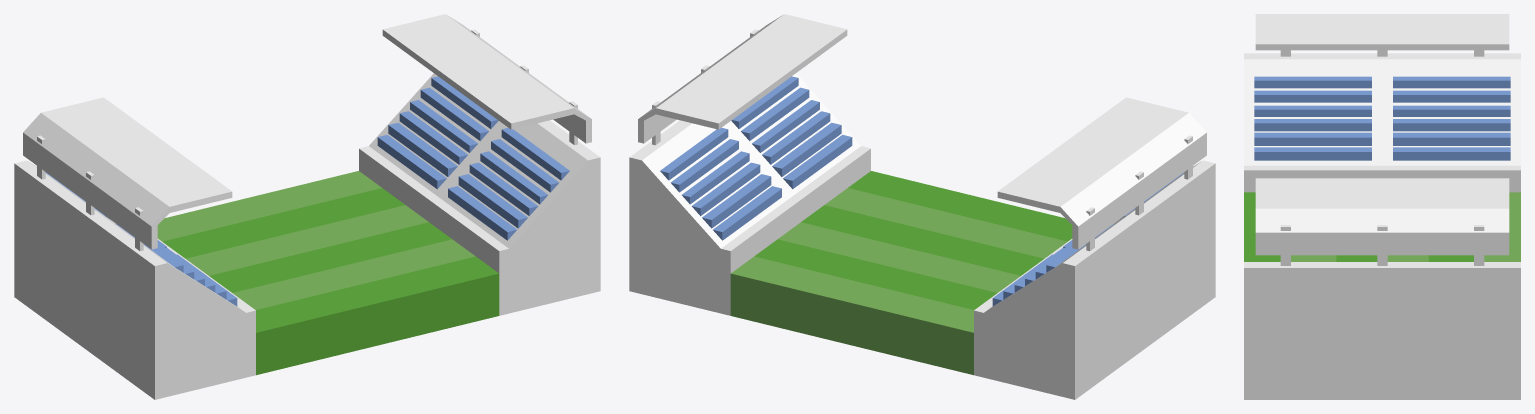
The model's file is back_stadium 1.fbx.
3 renders of one model, left to right at view 1: azimuth 30°, elevation 25°; view 2: azimuth 150°, elevation 25°; view 3: azimuth 270°, elevation 25°, orthographic.
Visible parts, largest first — view 1: Cube.006, Plane, Cube.003, Cube.007, Cube.014, Cube.001, Cube.002, Cube, Cube.005, Cube.004; view 2: Cube.006, Plane, Cube.004, Cube.014, Cube.007, Cube, Cube.005, Cube.001, Cube.002, Cube.003; view 3: Cube.006, Plane, Cube.007, Cube.014, Cube.003, Cube.004, Cube.002, Cube.005, Cube, Cube.001.
Boxes of the visible parts, x1,y1,x2,y2 form: Cube.006: (14, 73, 600, 399); Plane: (23, 14, 591, 251); Cube.003: (256, 256, 499, 375); Cube.007: (115, 127, 569, 306); Cube.014: (45, 76, 498, 247); Cube.001: (186, 205, 428, 275); Cube.002: (232, 239, 475, 309); Cube: (209, 222, 451, 292); Cube.005: (162, 188, 404, 258); Cube.004: (157, 171, 381, 241); Cube.006: (629, 73, 1215, 399); Plane: (638, 14, 1206, 251); Cube.004: (730, 256, 973, 375); Cube.014: (660, 127, 1114, 306); Cube.007: (731, 76, 1184, 247); Cube: (801, 205, 1043, 275); Cube.005: (754, 239, 997, 309); Cube.001: (778, 222, 1020, 292); Cube.002: (825, 188, 1067, 258); Cube.003: (848, 171, 1072, 241); Cube.006: (1244, 53, 1520, 399); Plane: (1255, 14, 1509, 265); Cube.007: (1254, 76, 1371, 160); Cube.014: (1393, 76, 1510, 160); Cube.003: (1244, 192, 1280, 261); Cube.004: (1484, 192, 1520, 261); Cube.002: (1291, 255, 1336, 261); Cube.005: (1428, 255, 1473, 261); Cube: (1336, 255, 1377, 261); Cube.001: (1387, 255, 1428, 261).
Bounding box in the file's own units: 2200 × 867 × 1200.
